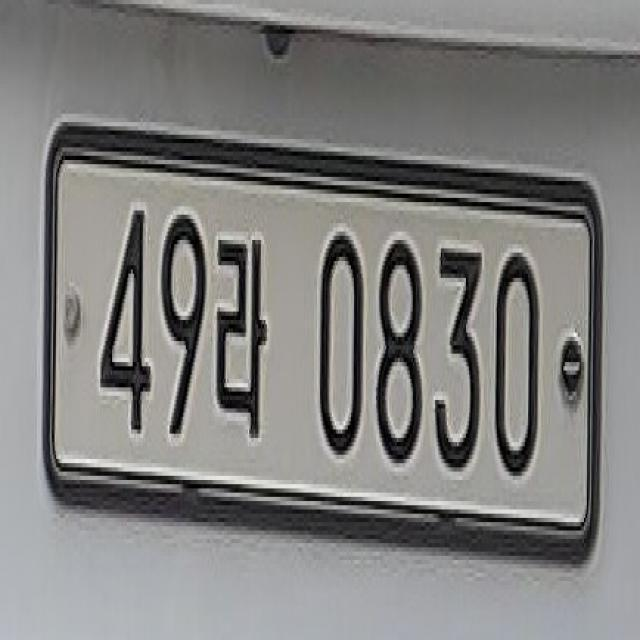0: (492, 238, 547, 504), (312, 208, 366, 474)
3: (430, 222, 488, 491)
4: (90, 190, 154, 451)
8: (374, 228, 429, 486)
9: (160, 201, 210, 456)
la: (214, 193, 280, 483)
license_plate: (32, 115, 618, 587)
